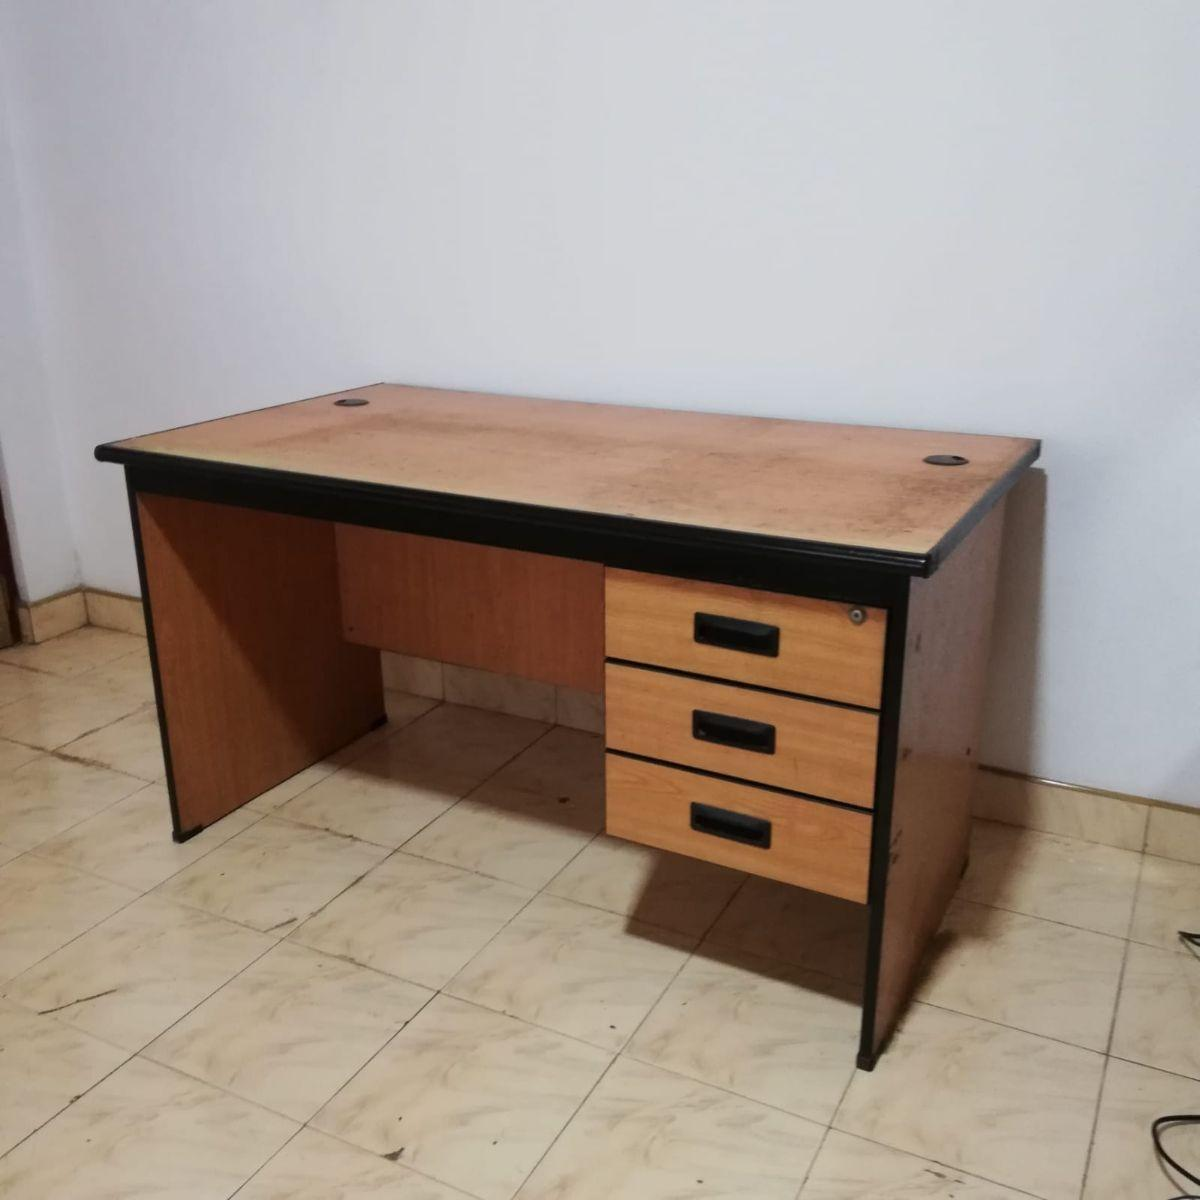Table: (64, 353, 1076, 1099)
